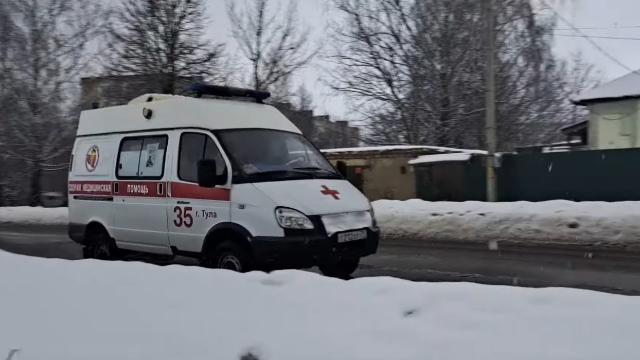ambulance: (70, 86, 381, 282)
